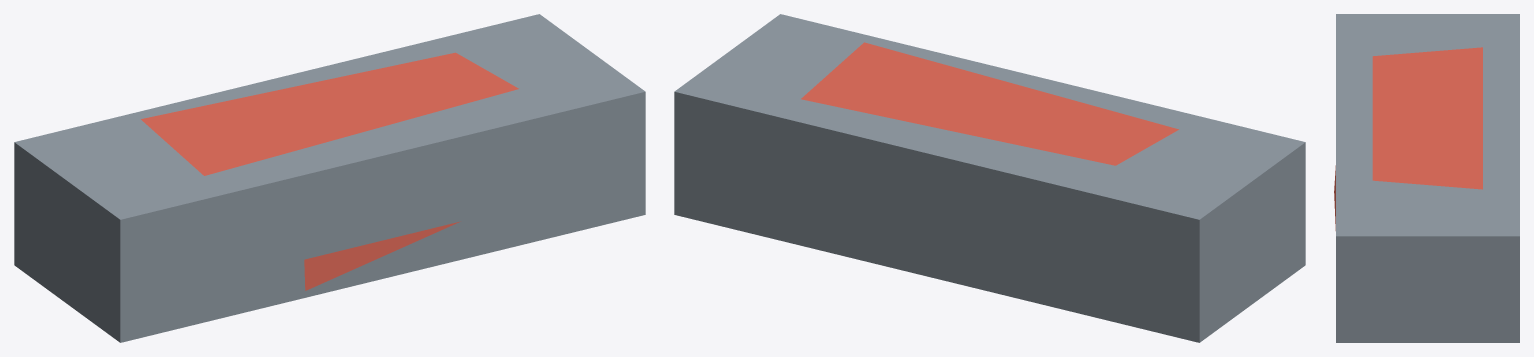
File: SU_BuranPatrolBoat_LOD1.glb
The picture shows the model from 3 angles, left to right: view 1: azimuth 30°, elevation 25°; view 2: azimuth 150°, elevation 25°; view 3: azimuth 270°, elevation 25°; orthographic projection. The views are drawn at different scales.
Parts seen in each view (by area): view 1: EntranceGate; view 2: EntranceGate; view 3: EntranceGate.
Part boxes in pixels (x1=…): EntranceGate: x1=14, y1=14, x2=645, y2=342; EntranceGate: x1=674, y1=14, x2=1305, y2=342; EntranceGate: x1=1334, y1=14, x2=1519, y2=342.
Size of the model in its own units: 1000 by 247 by 353.
